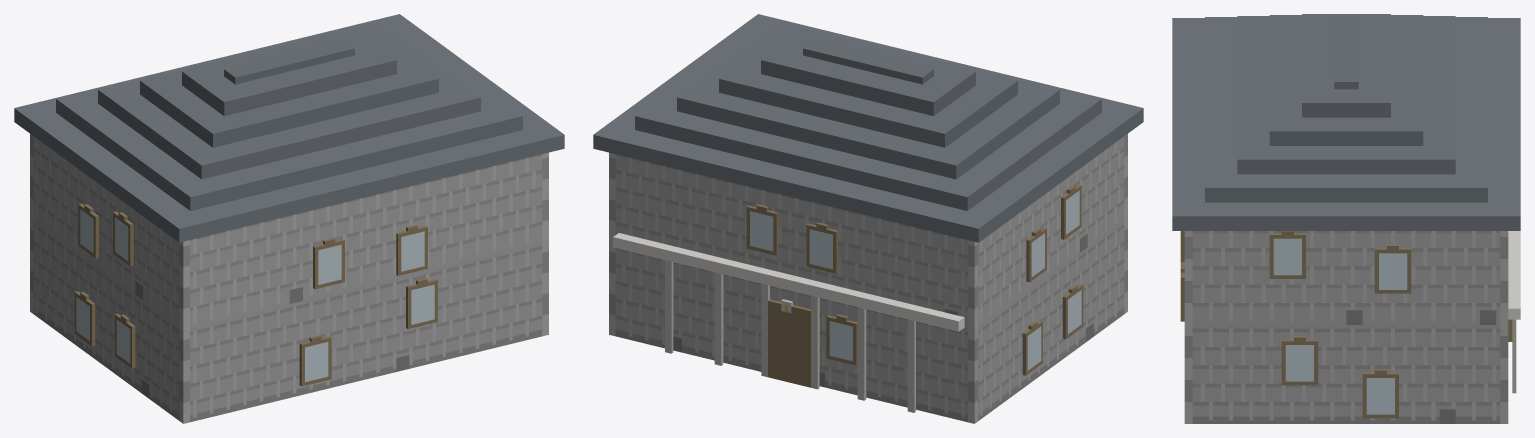
The model's file is escuela_03.glb.
The picture shows the model from 3 angles, left to right: view 1: azimuth 30°, elevation 25°; view 2: azimuth 150°, elevation 25°; view 3: azimuth 270°, elevation 25°; orthographic projection. The views are drawn at different scales.
Parts seen in each view (by area): view 1: escuela_03; view 2: escuela_03; view 3: escuela_03.
Part boxes in pixels (left/top/right/bottom): escuela_03: left=14, top=14, right=564, bottom=423; escuela_03: left=593, top=14, right=1143, bottom=423; escuela_03: left=1172, top=14, right=1520, bottom=423.
Bounding box in the file's own units: 11.6 × 7.6 × 8.6.
